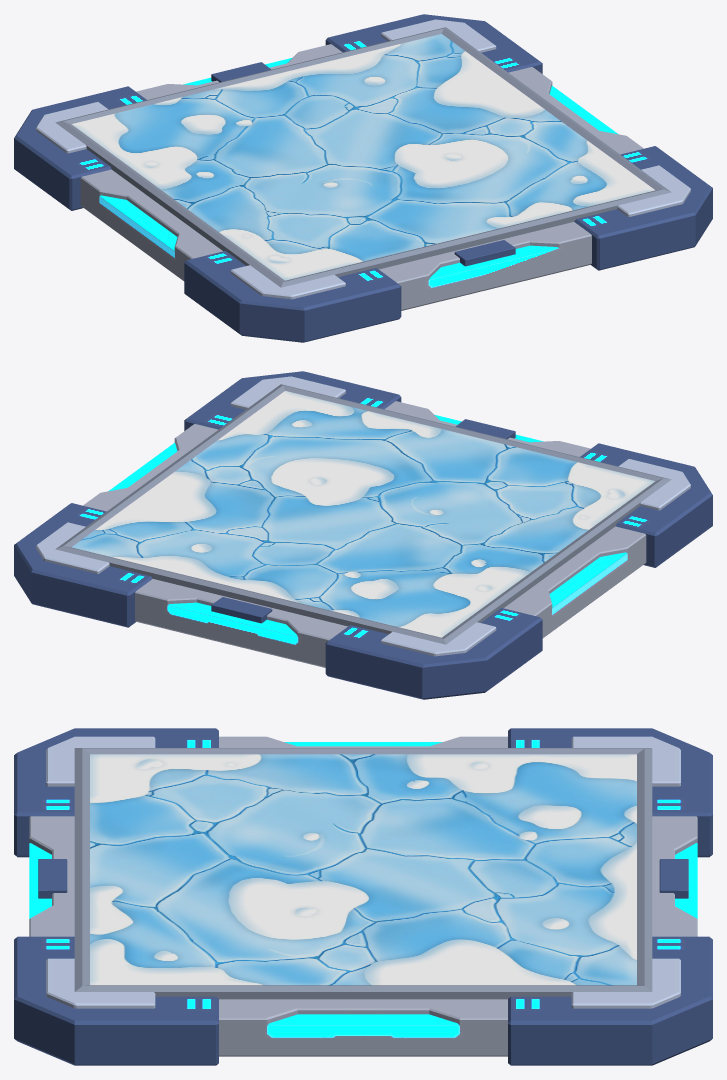
The model's file is suelo_opt.glb.
The picture shows the model from 3 angles, top to bottom: view 1: azimuth 30°, elevation 25°; view 2: azimuth 150°, elevation 25°; view 3: azimuth 270°, elevation 25°; orthographic projection. The views are drawn at different scales.
Parts seen in each view (by area): view 1: floor_floor_tex_0, frame_frame_tex_0; view 2: floor_floor_tex_0, frame_frame_tex_0; view 3: floor_floor_tex_0, frame_frame_tex_0.
Part boxes in pixels (<box>): floor_floor_tex_0: <box>71,34,654,280</box>; frame_frame_tex_0: <box>14,14,712,342</box>; floor_floor_tex_0: <box>72,391,655,637</box>; frame_frame_tex_0: <box>14,371,712,699</box>; floor_floor_tex_0: <box>90,754,636,985</box>; frame_frame_tex_0: <box>14,728,712,1065</box>.
Size of the model in its own units: 2300 by 290 by 2300.
Materials: 4 (4 with a texture image).
